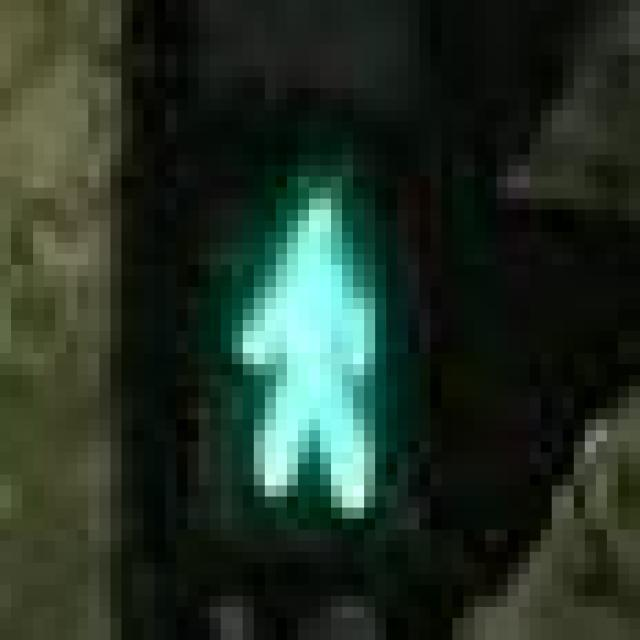geen-crossing: (188, 99, 442, 530)
